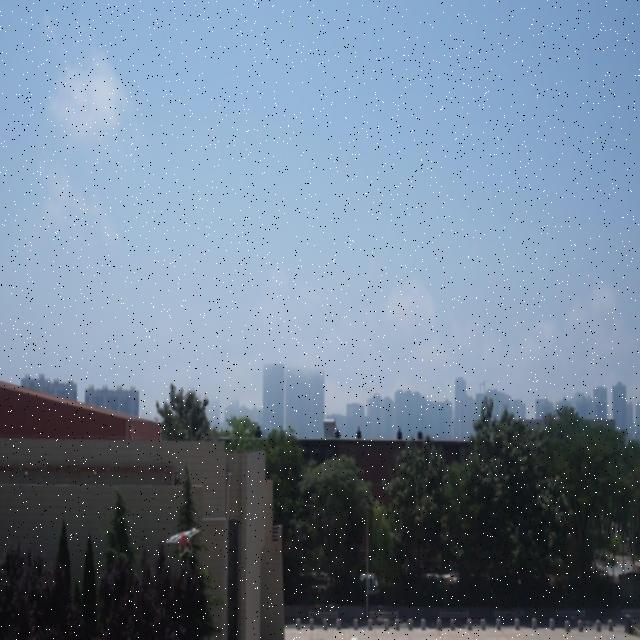UAV: (165, 528, 200, 558)
